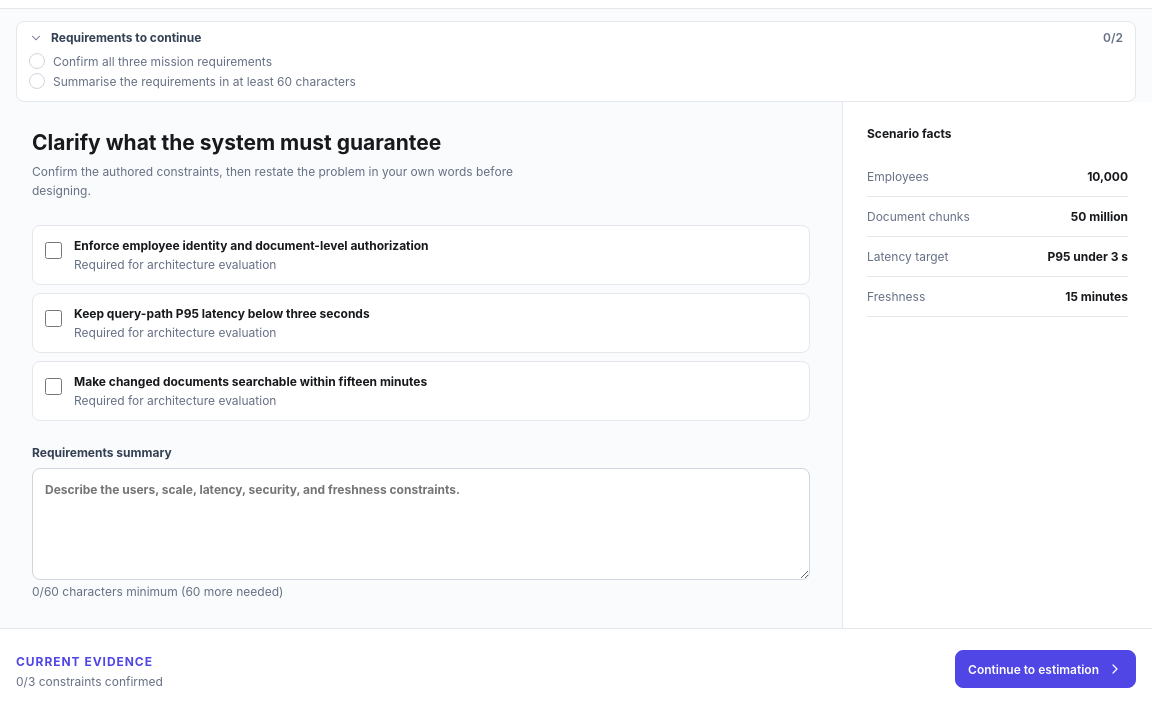
Test: MissionWorkspace text input feedback › shows a live character counter with the minimum-length hint for the summary
(page scrolled)
Check: the text "0/60 characters minimum (60 more needed)" is shown, box [32, 584, 283, 599]
Replace the text in the text box with placeholder "Describe the users, scale, latency, security" with "short" at (421, 524), box [32, 468, 810, 580]
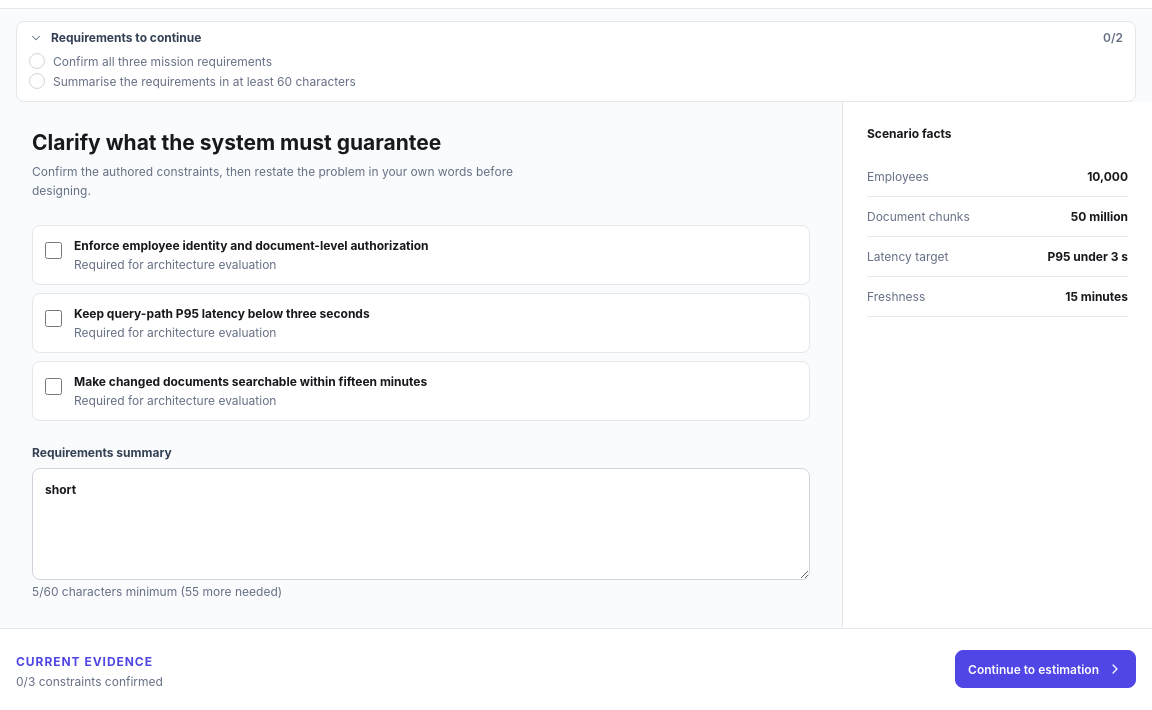
Check: the text "5/60 characters minimum (55 more needed)" is shown, box [32, 584, 282, 599]
